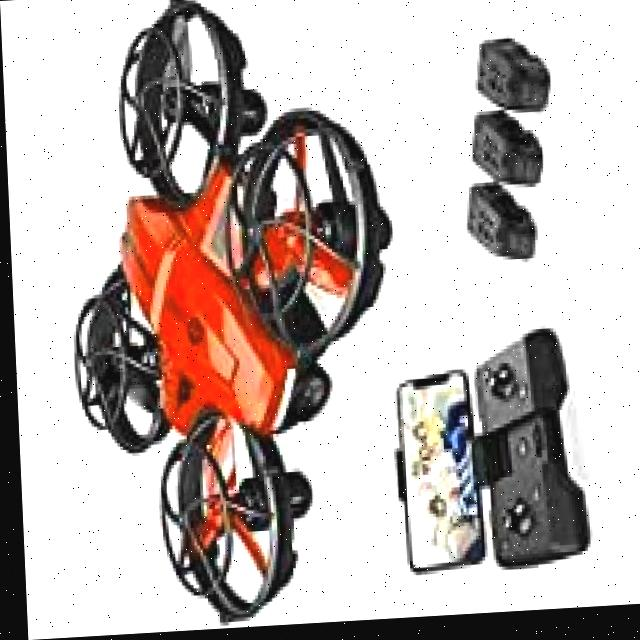drone: (39, 0, 403, 638)
